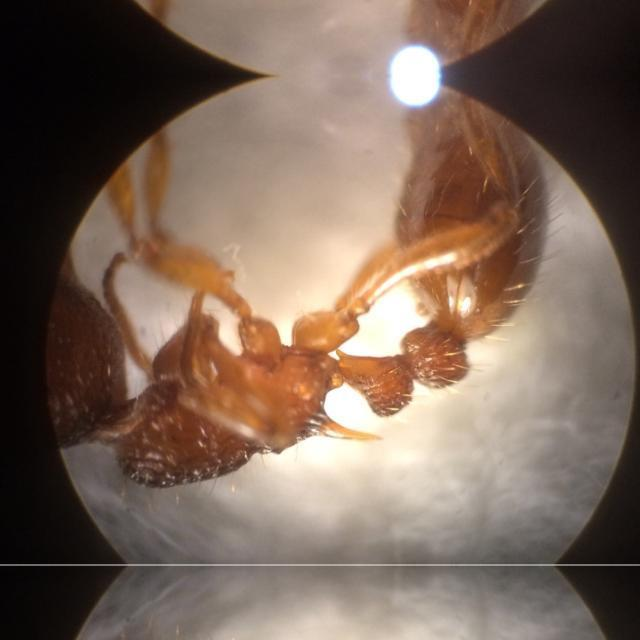Myrmica: (59, 100, 559, 476)
